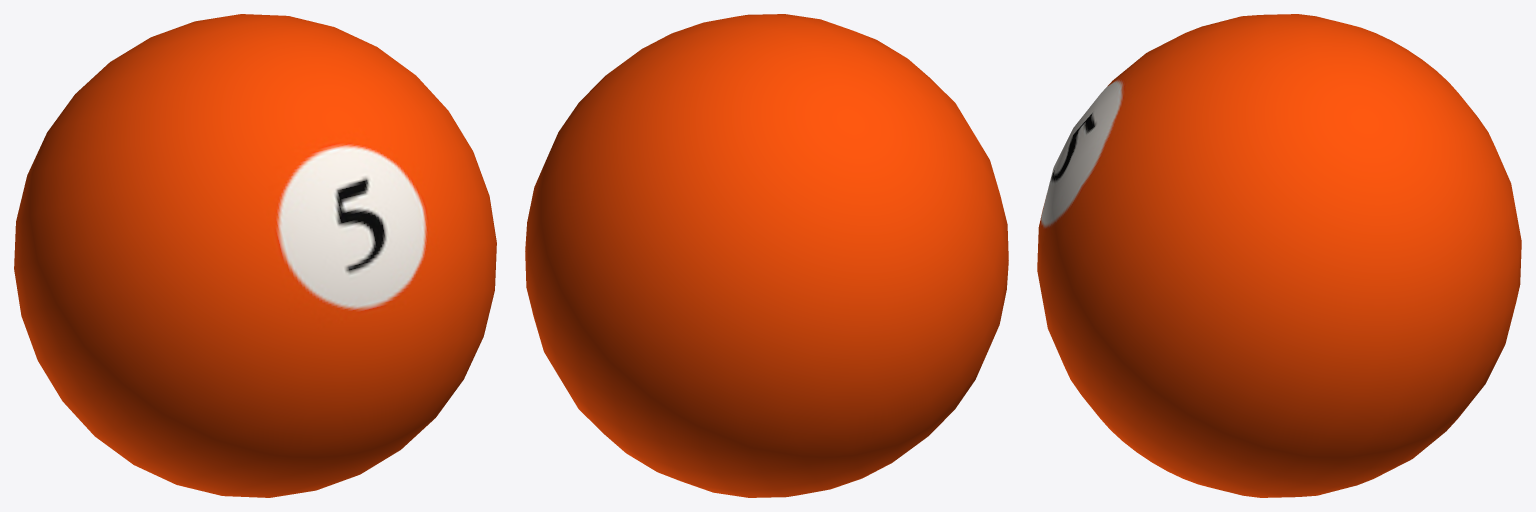
File: orange.glb
The picture shows the model from 3 angles, left to right: view 1: azimuth 30°, elevation 25°; view 2: azimuth 150°, elevation 25°; view 3: azimuth 270°, elevation 25°; orthographic projection.
Parts seen in each view (by area): view 1: Ball5_08 - Default_0; view 2: Ball5_08 - Default_0; view 3: Ball5_08 - Default_0.
Part boxes in pixels (x1,y1,x2,y2): Ball5_08 - Default_0: [14, 14, 496, 497]; Ball5_08 - Default_0: [525, 14, 1008, 497]; Ball5_08 - Default_0: [1037, 14, 1521, 497].
Bounding box in the file's own units: 37.86 × 37.78 × 37.78.
1 material, 1 textured.
